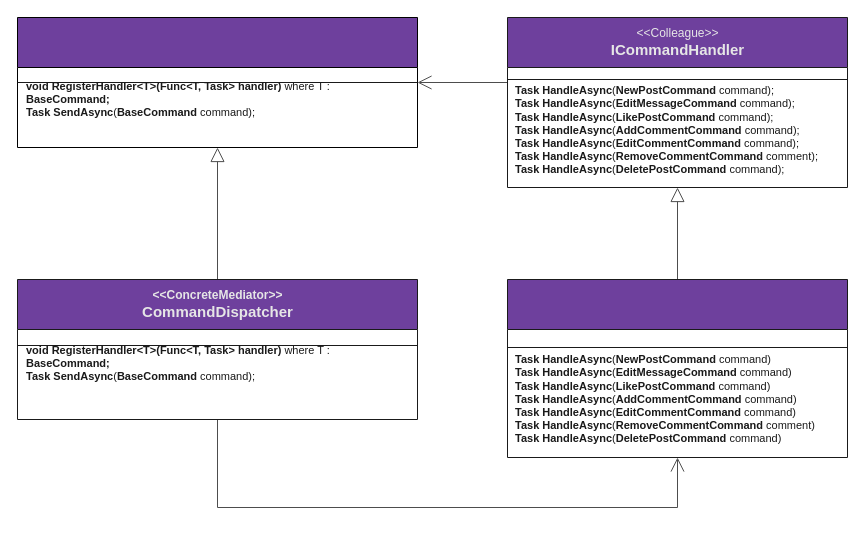
Some shapes in this 865 by 539 pixel diagram are drawn without their labels. Here are the shapes that lost their labels. From the top down, the box of each, then its label:
(16, 16, 418, 148): <<Mediator>> ICommandDispatcher
(506, 278, 848, 458): <<ConcreteColleague>> CommandHandler
